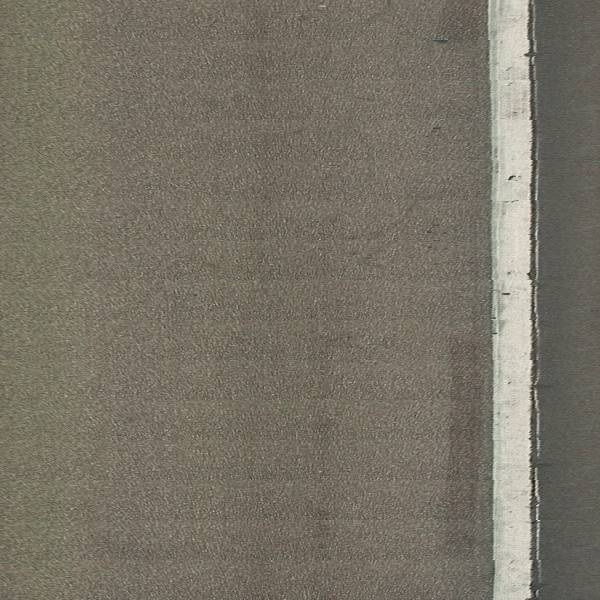road_damage: (520, 46, 554, 578)
